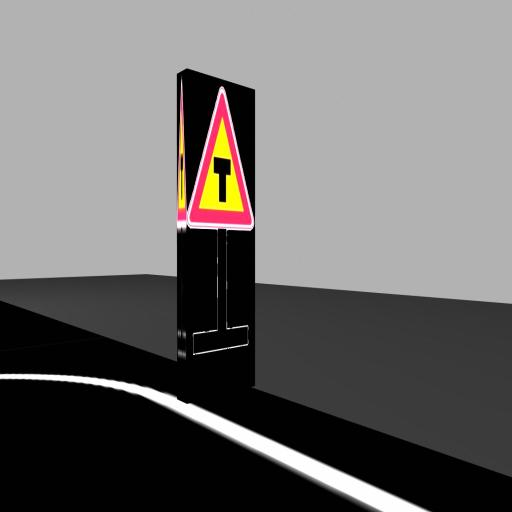Intersection: (187, 87, 254, 229), (177, 81, 186, 227)
